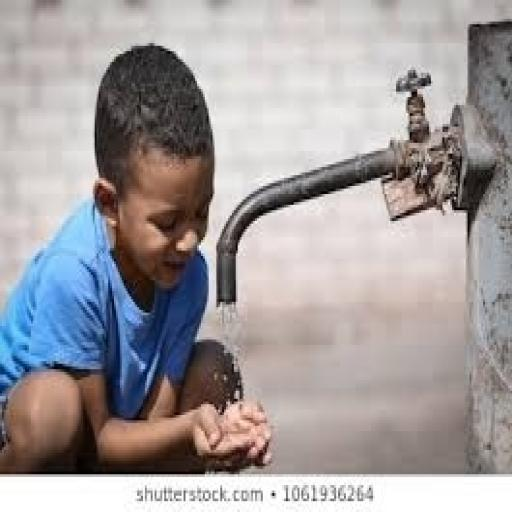drinking: (0, 40, 272, 471)
